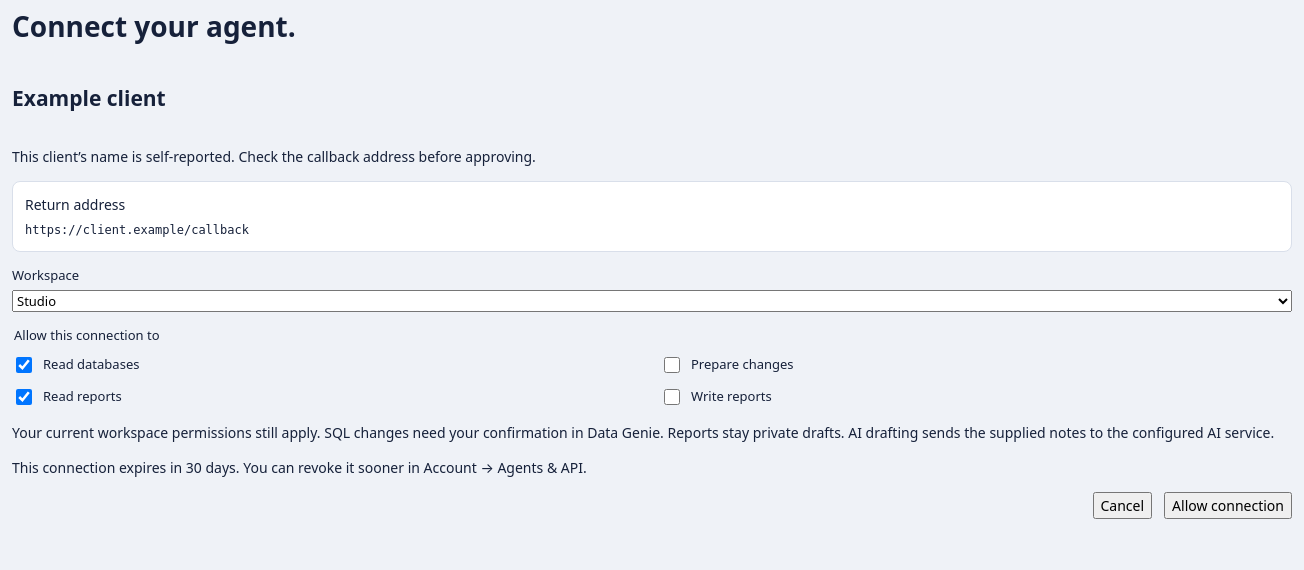
Test: shows server errors without granting permissions or redirecting
The width and height of the screenshot is (1304, 570).
Expected: the heading "Example client" is shown, [12, 84, 166, 112]
Step 1. Click the button "Allow connection" → (1228, 505), box [1164, 492, 1292, 519]
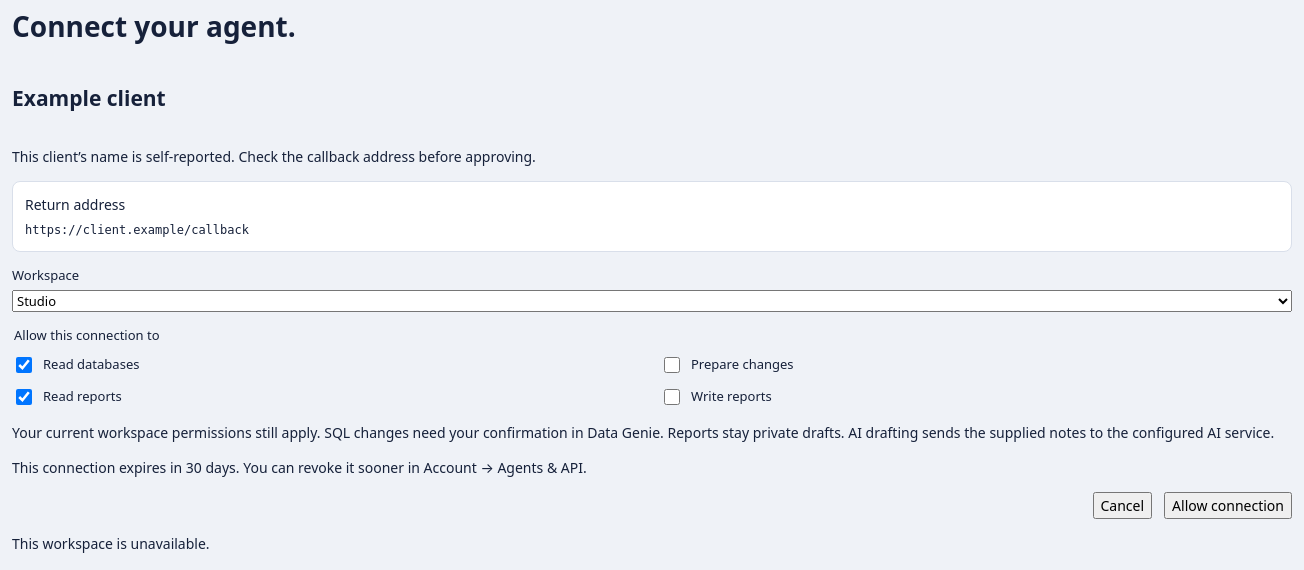
Now the text "This workspace is unavailable." is shown, box [12, 534, 210, 553]
